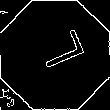L_SW: (26, 31, 84, 79)
